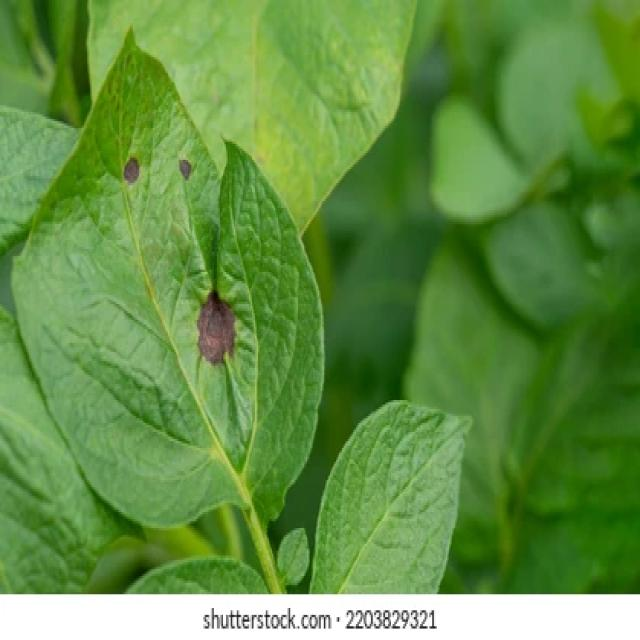earlyblight: (198, 292, 235, 364), (124, 157, 140, 182), (179, 159, 192, 179)
